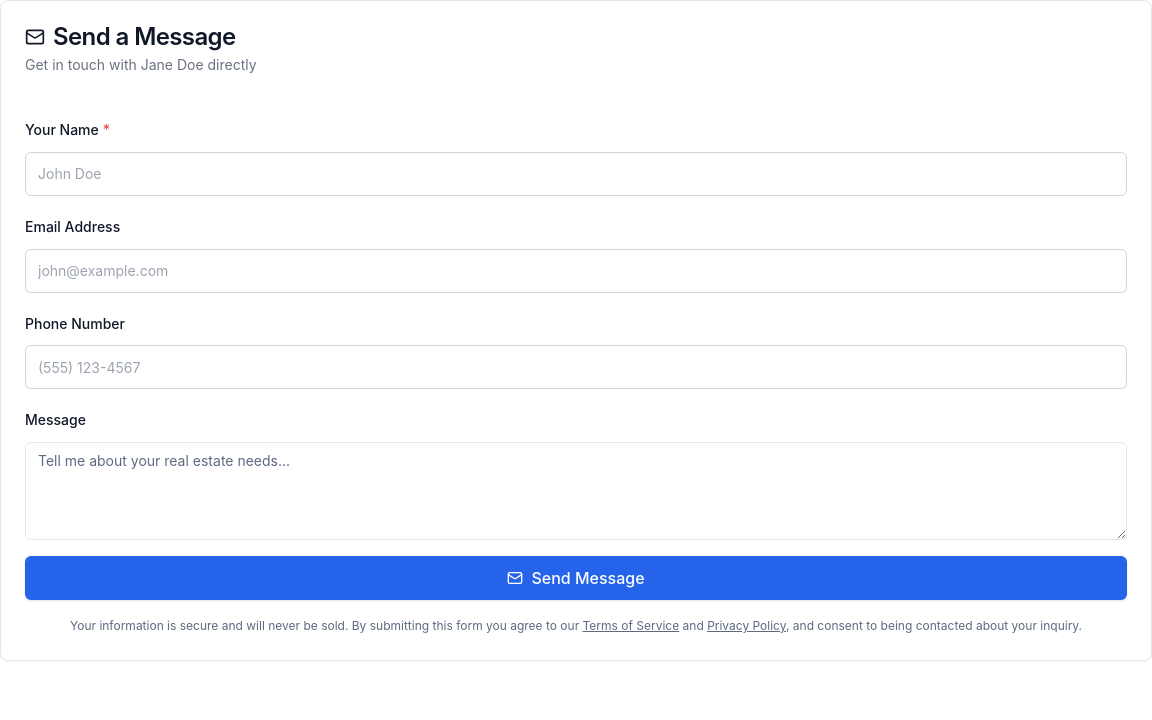
Test: ContactForm › surfaces the reason the submission was rejected, not a generic failure
This screenshot has width=1152, height=720.
Type "Dana Rivers" into the field labelled "Your Name*" at (576, 174), box [25,152,1127,196]
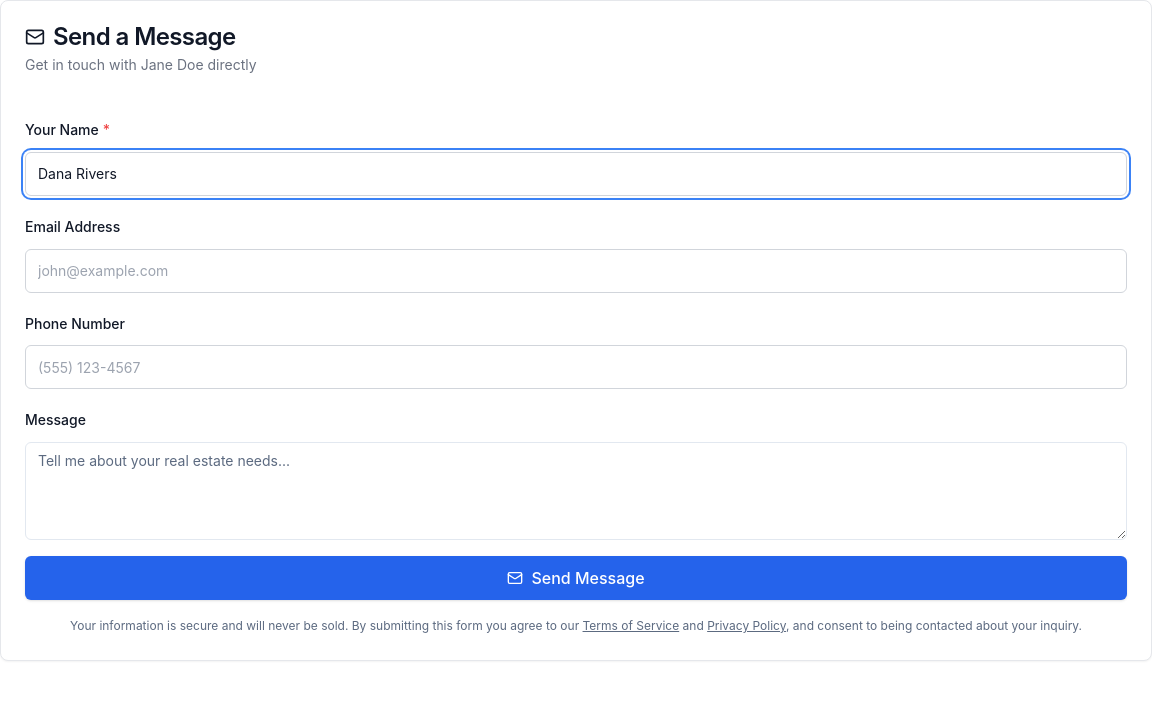
Type "dana@example.com" into the field labelled "Email Address" at (576, 271), box [25,249,1127,293]
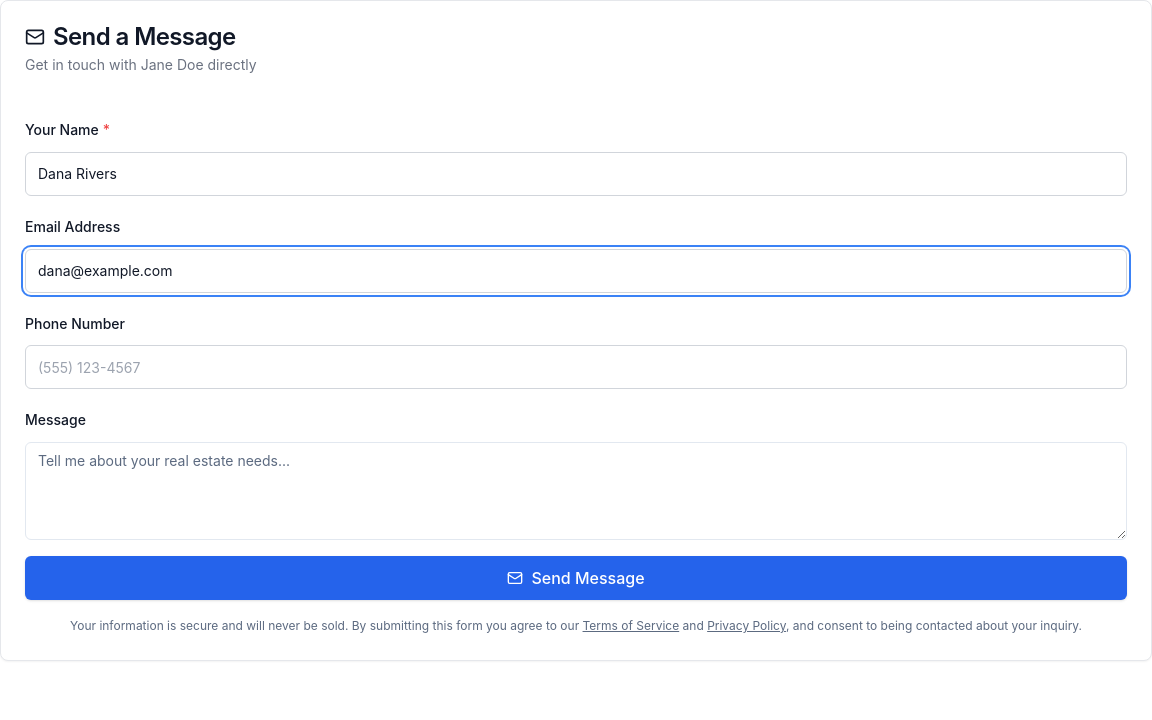
Type "5550142000" into the field labelled "Phone Number" at (576, 367), box [25,345,1127,389]
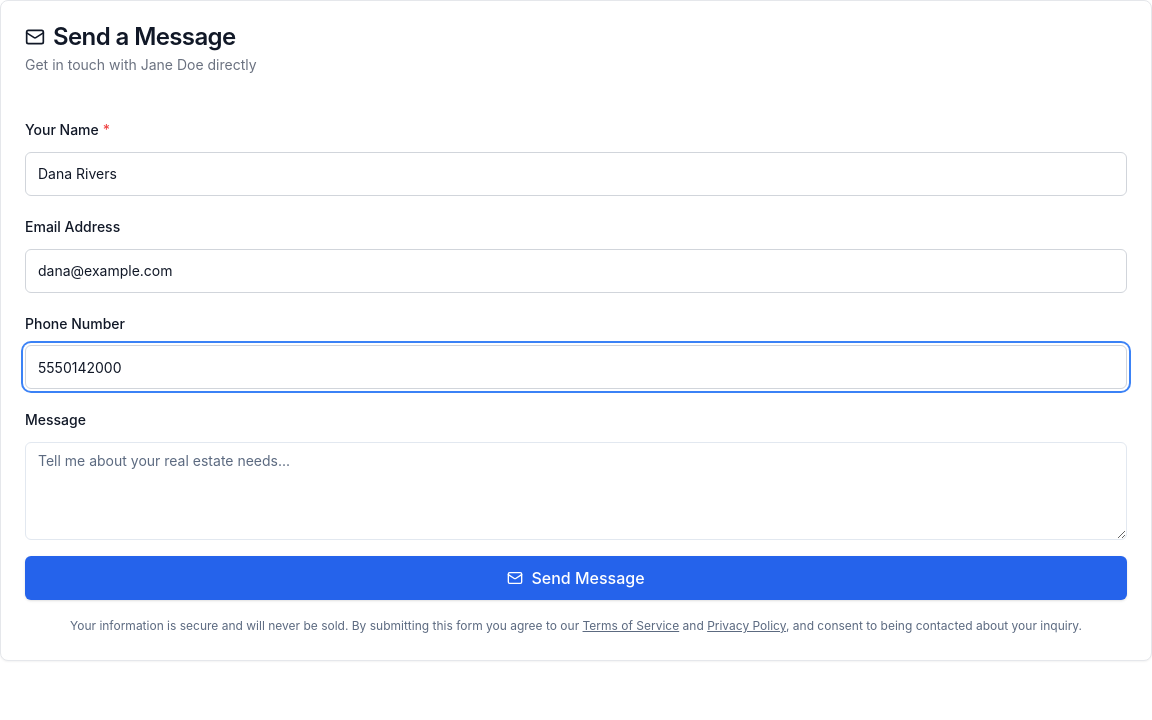
Type "Is the Maple Avenue listing still available?" into the text box labelled "Message" at (576, 491), box [25,442,1127,540]
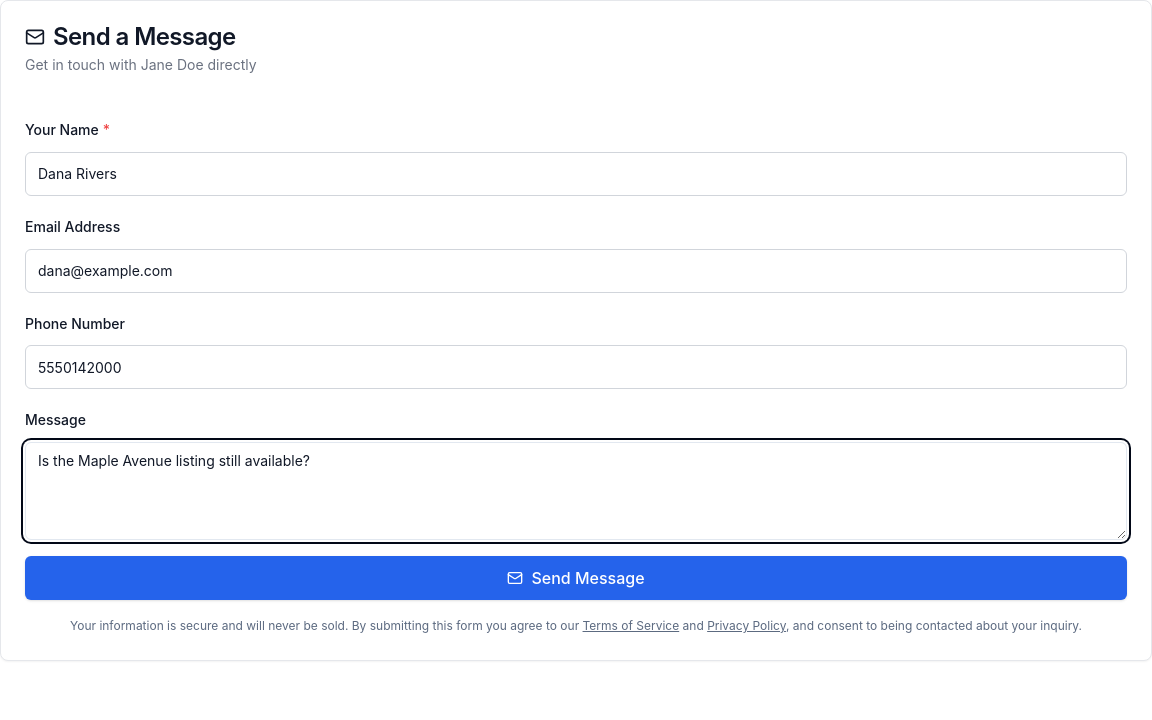
Click the button "Send Message" at (576, 578), box [25,556,1127,600]
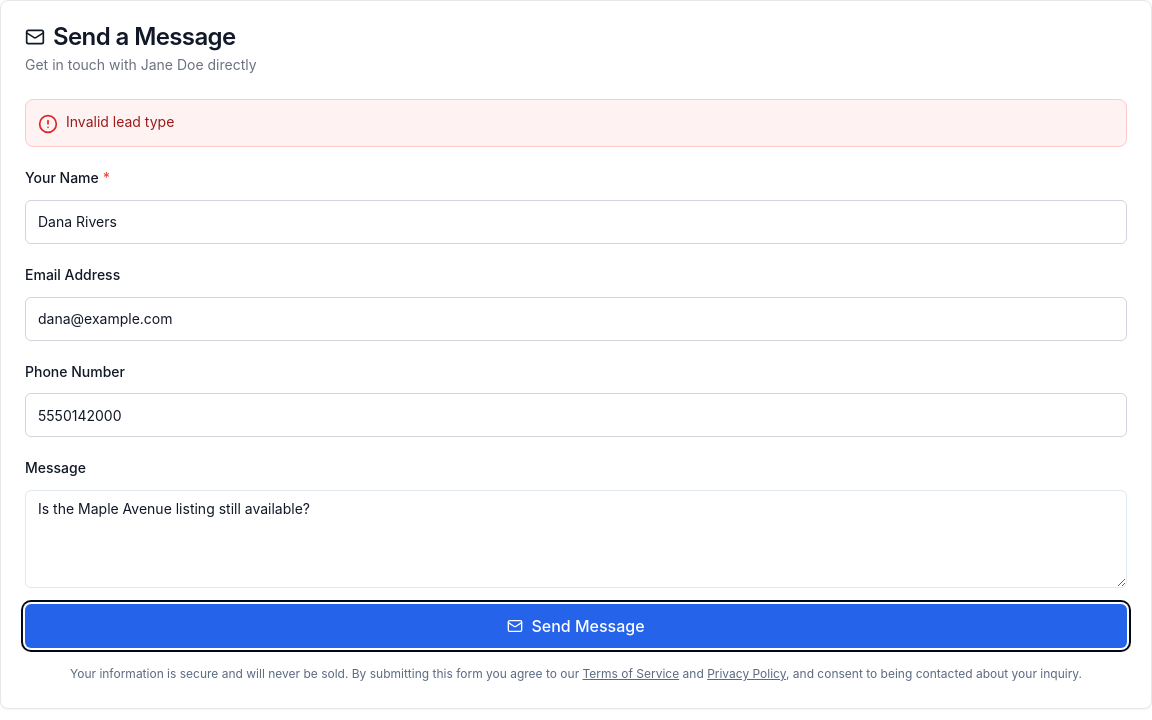
Expected: the text "Invalid lead type" is shown, [66,112,174,132]
